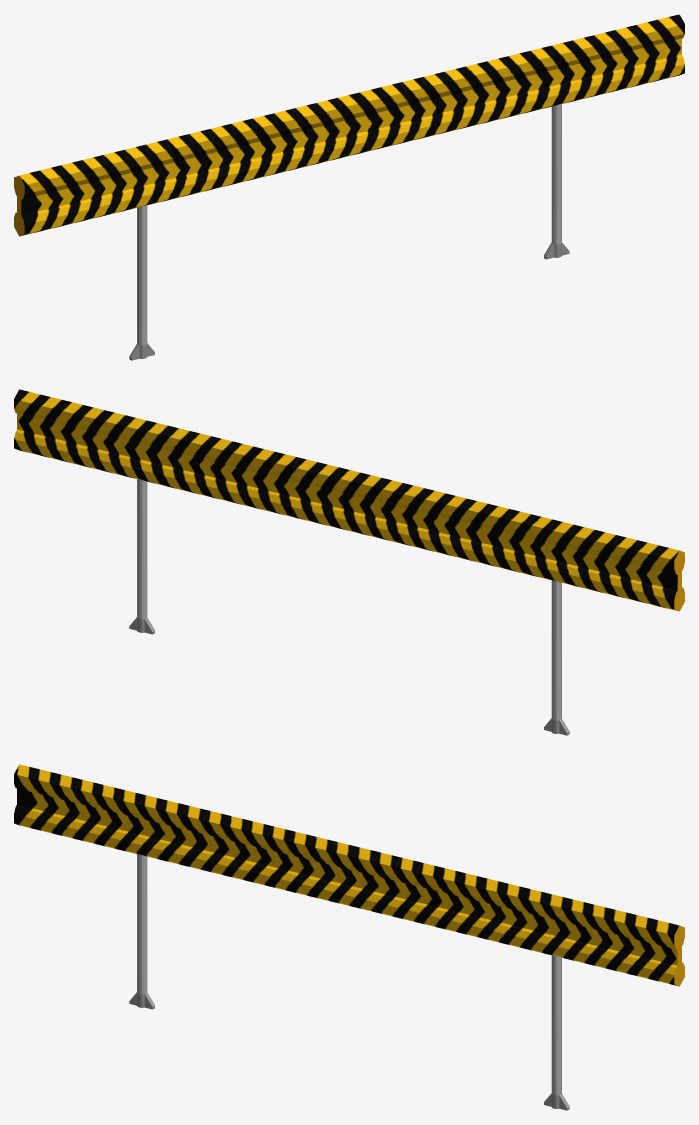
Rendered from Road_Fence.fbx.
3 views of the same model, one above another, from view 1: azimuth 30°, elevation 25°; view 2: azimuth 150°, elevation 25°; view 3: azimuth 330°, elevation 25° (orthographic).
Parts seen in each view (by area): view 1: Road_Fence, Road_Fence_Legs; view 2: Road_Fence, Road_Fence_Legs; view 3: Road_Fence, Road_Fence_Legs.
Boxes of the visible parts, x1=… form: Road_Fence: x1=14, y1=14, x2=684, y2=236; Road_Fence_Legs: x1=129, y1=104, x2=569, y2=360; Road_Fence: x1=14, y1=389, x2=684, y2=611; Road_Fence_Legs: x1=129, y1=479, x2=569, y2=735; Road_Fence: x1=14, y1=764, x2=684, y2=986; Road_Fence_Legs: x1=129, y1=854, x2=569, y2=1110.
Size of the model in its own units: 640 by 196 by 17.76.
